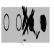correct: (40, 14, 47, 33)
